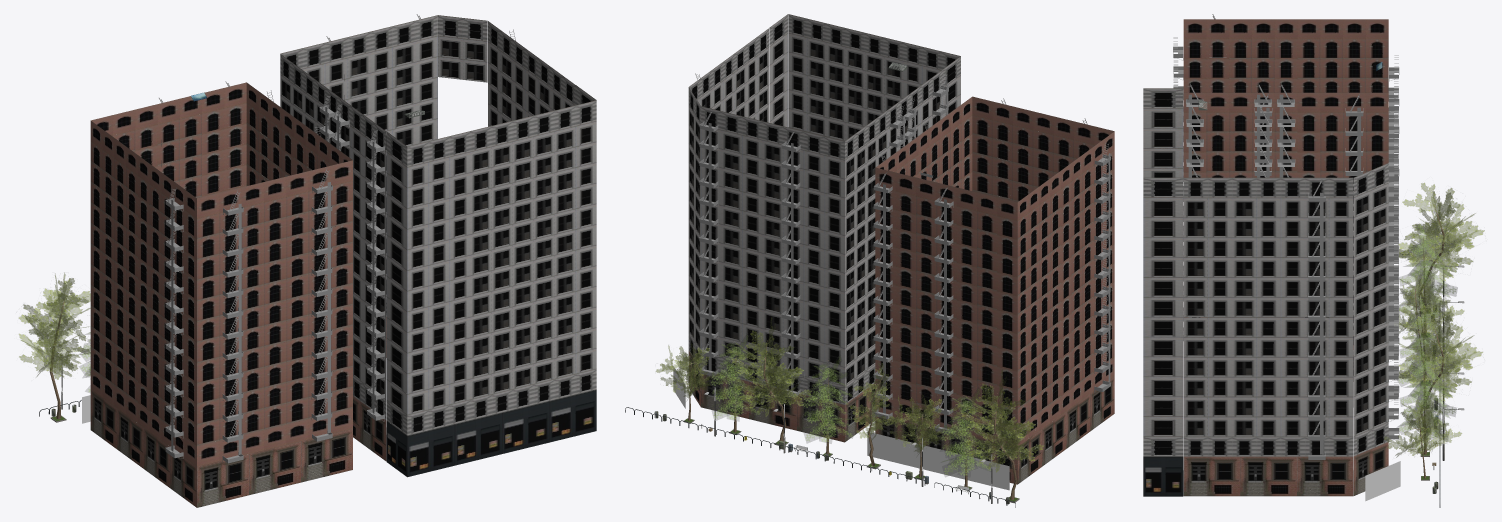
The model's file is nycity_04.gltf.
3 views of the same model, side by side, from view 1: azimuth 30°, elevation 25°; view 2: azimuth 150°, elevation 25°; view 3: azimuth 270°, elevation 25° (orthographic). The views are drawn at different scales.
Parts seen in each view (by area): view 1: nycity_04; view 2: nycity_04; view 3: nycity_04.
Part boxes in pixels (<box>): nycity_04: <box>18,14,596,507</box>; nycity_04: <box>625,14,1114,507</box>; nycity_04: <box>1143,14,1484,507</box>.
Bounding box in the file's own units: 68.4 × 48.52 × 47.01.
Materials: 19 (13 with a texture image).
